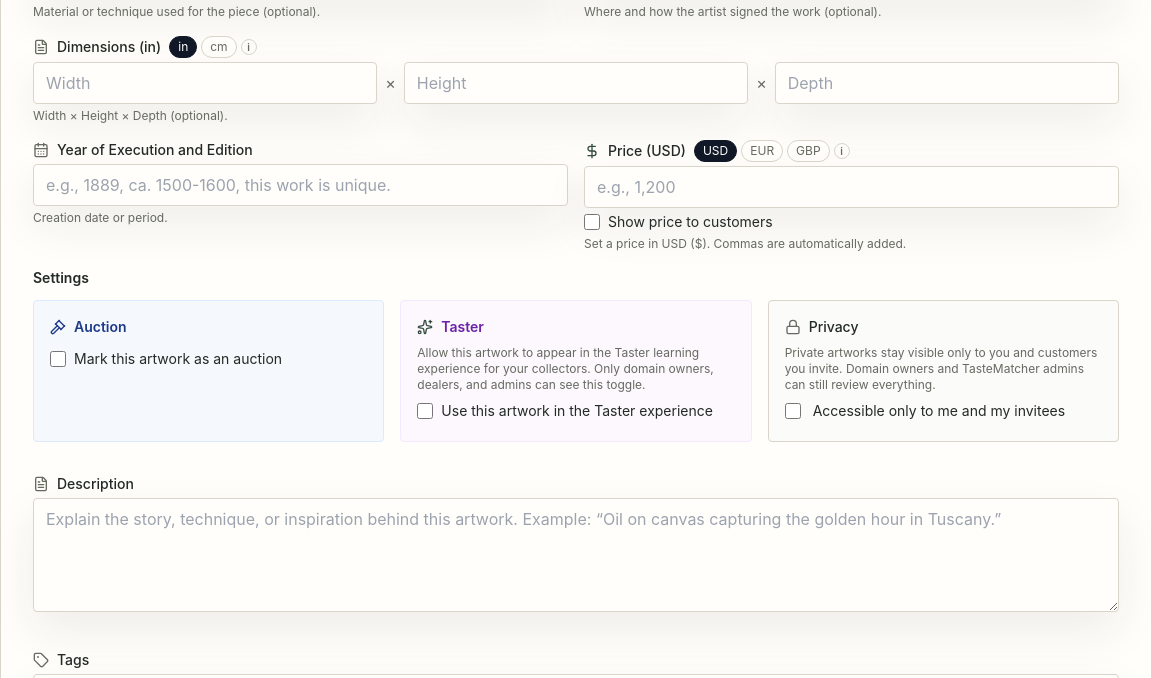
Test: UploadPage › uses low and high price terminology for auction uploads
(page scrolled)
Click the checkbox labelled "Mark this artwork as an auction": (58, 360) [50, 352, 66, 368]
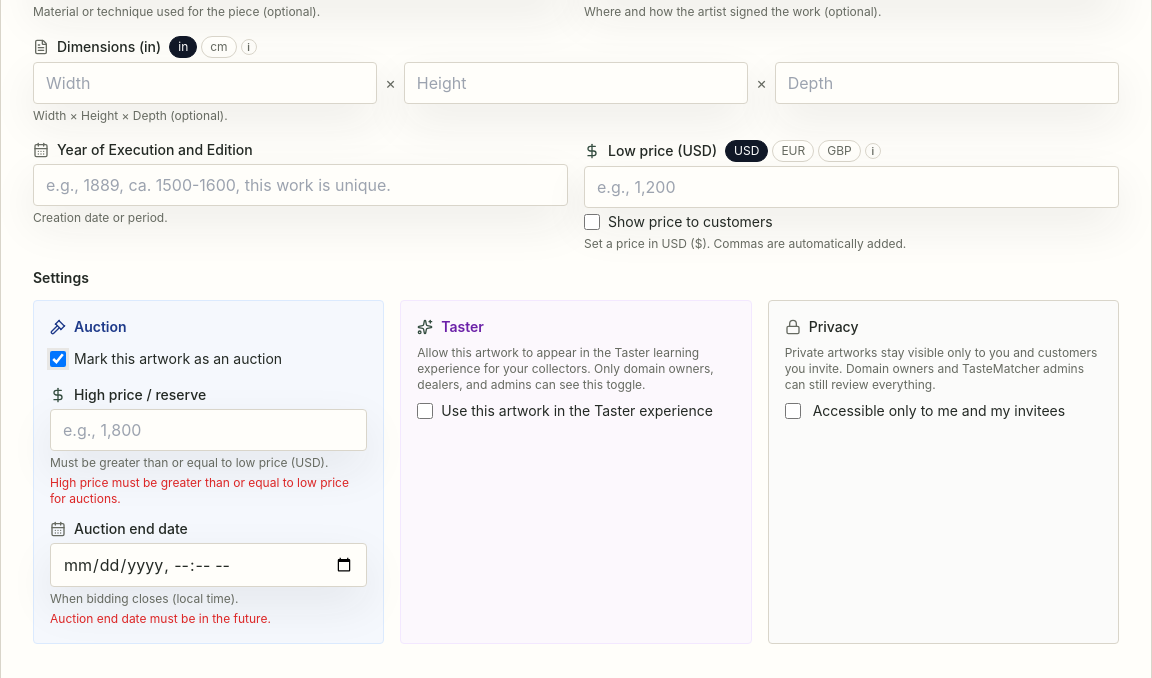
Expected: the field labelled "Low price (USD)" is shown, [584, 166, 1119, 208]
Now the field labelled "High price / reserve" is shown, box [50, 410, 367, 452]
Now the text "High price must be greater than or equal to low price for auctions." is shown, box [50, 476, 367, 508]
